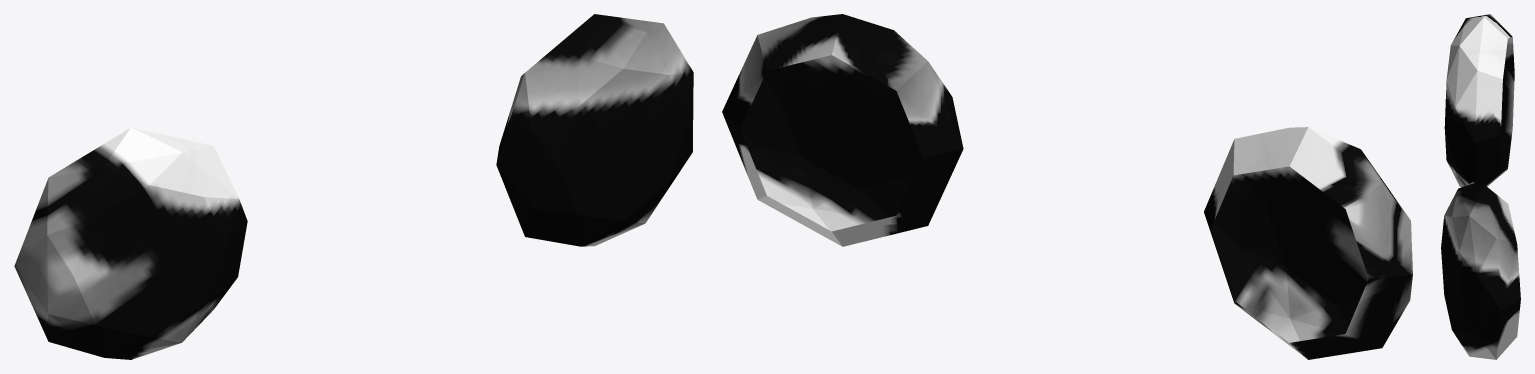
Rendered from peruHead_ruby.gltf.
The picture shows the model from 3 angles, left to right: view 1: azimuth 30°, elevation 25°; view 2: azimuth 150°, elevation 25°; view 3: azimuth 270°, elevation 25°; orthographic projection. The views are drawn at different scales.
Visible parts, largest first — view 1: Cylinder; view 2: Cylinder; view 3: Cylinder.
Boxes of the visible parts, x1,y1,x2,y2 form: Cylinder: (14,14,693,359); Cylinder: (722,14,1412,359); Cylinder: (1441,14,1520,359).
Bounding box in the file's own units: 6.27 × 2.03 × 0.8552.
Materials: 1 (1 with a texture image).
